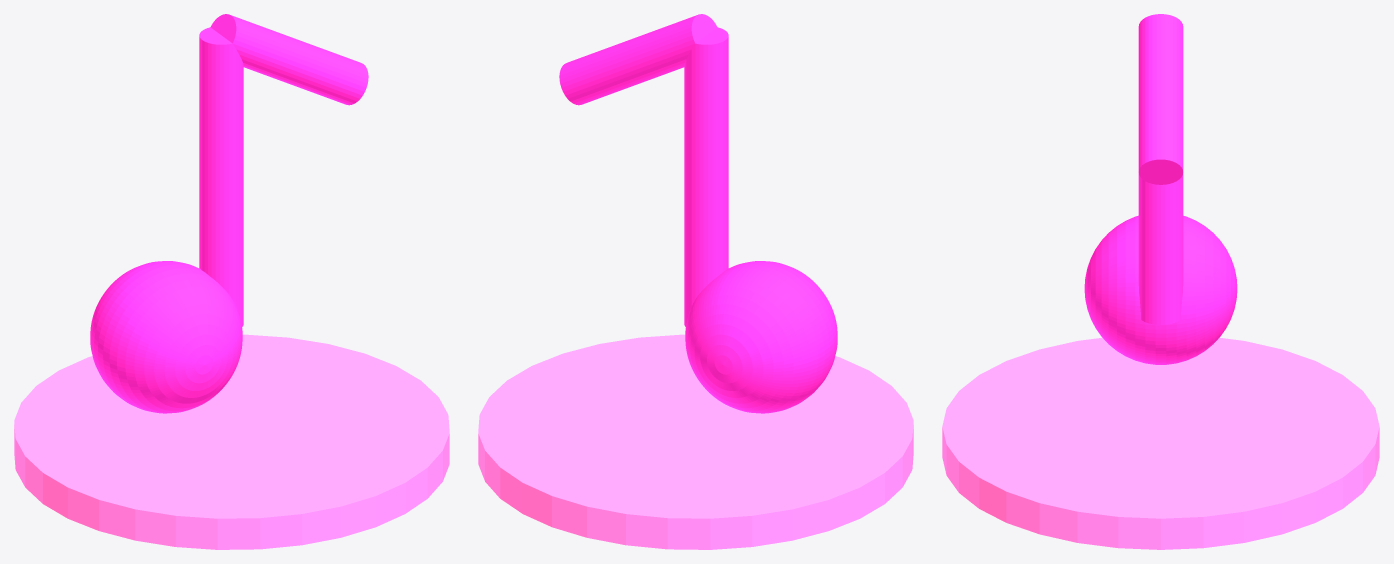
File: music_music_note.glb
The picture shows the model from 3 angles, left to right: view 1: azimuth 30°, elevation 25°; view 2: azimuth 150°, elevation 25°; view 3: azimuth 270°, elevation 25°; orthographic projection.
Visible parts, largest first — view 1: 07_05_Popular_Music_Music_Note_ROOT_base, 07_05_Popular_Music_Music_Note_part_01, 07_05_Popular_Music_Music_Note_part_02, 07_05_Popular_Music_Music_Note_part_03; view 2: 07_05_Popular_Music_Music_Note_ROOT_base, 07_05_Popular_Music_Music_Note_part_01, 07_05_Popular_Music_Music_Note_part_02, 07_05_Popular_Music_Music_Note_part_03; view 3: 07_05_Popular_Music_Music_Note_ROOT_base, 07_05_Popular_Music_Music_Note_part_01, 07_05_Popular_Music_Music_Note_part_03, 07_05_Popular_Music_Music_Note_part_02.
Part boxes in pixels (left/top/right/bottom): 07_05_Popular_Music_Music_Note_ROOT_base: left=14, top=334, right=449, bottom=549; 07_05_Popular_Music_Music_Note_part_01: left=90, top=261, right=242, bottom=413; 07_05_Popular_Music_Music_Note_part_02: left=199, top=27, right=243, bottom=326; 07_05_Popular_Music_Music_Note_part_03: left=210, top=14, right=368, bottom=105; 07_05_Popular_Music_Music_Note_ROOT_base: left=478, top=334, right=913, bottom=549; 07_05_Popular_Music_Music_Note_part_01: left=685, top=261, right=837, bottom=413; 07_05_Popular_Music_Music_Note_part_02: left=684, top=27, right=728, bottom=326; 07_05_Popular_Music_Music_Note_part_03: left=559, top=14, right=717, bottom=105; 07_05_Popular_Music_Music_Note_ROOT_base: left=942, top=337, right=1379, bottom=549; 07_05_Popular_Music_Music_Note_part_01: left=1084, top=215, right=1237, bottom=364; 07_05_Popular_Music_Music_Note_part_03: left=1138, top=14, right=1183, bottom=184; 07_05_Popular_Music_Music_Note_part_02: left=1138, top=173, right=1183, bottom=324.
Bounding box in the file's own units: 0.76 × 0.85 × 0.76.
